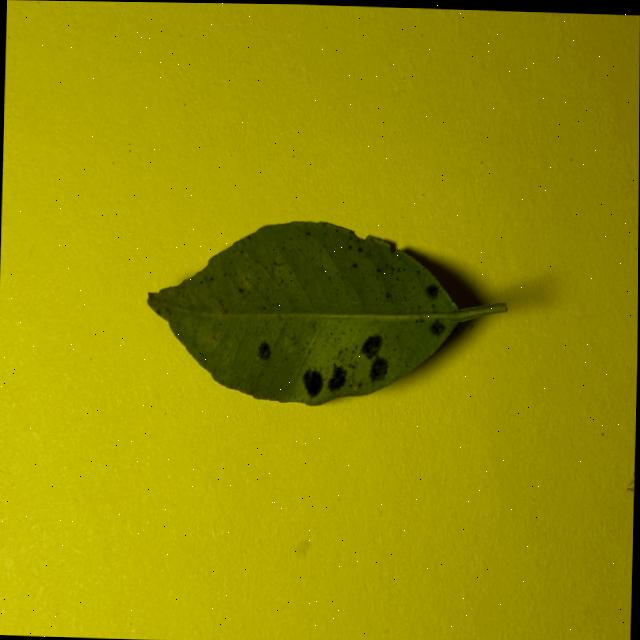sooty_mold: (147, 221, 504, 405)
